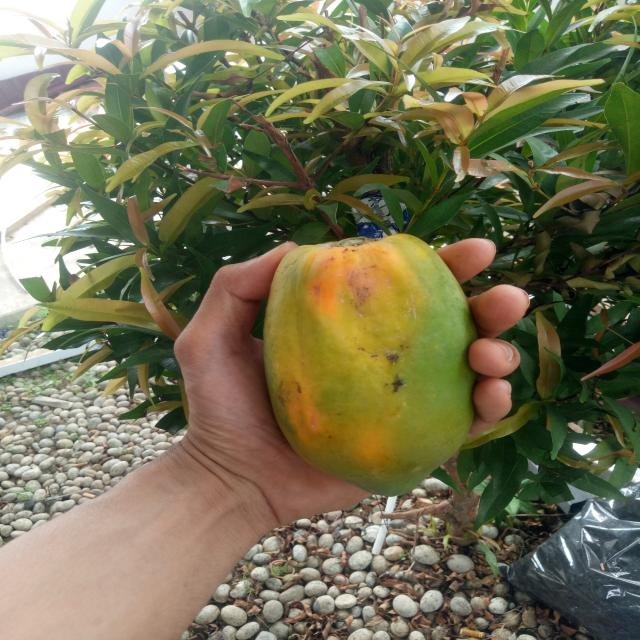Pepaya rippen: (263, 228, 483, 498)
